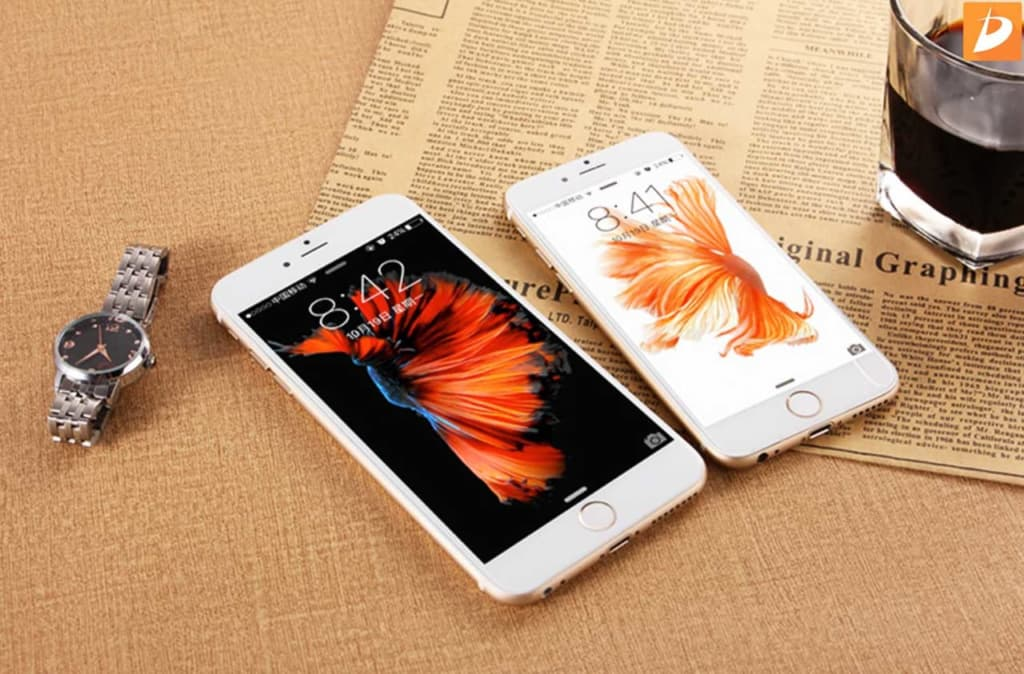iphone: (201, 191, 714, 613), (495, 113, 903, 473)
iphone6: (198, 193, 711, 615), (493, 111, 901, 471)
